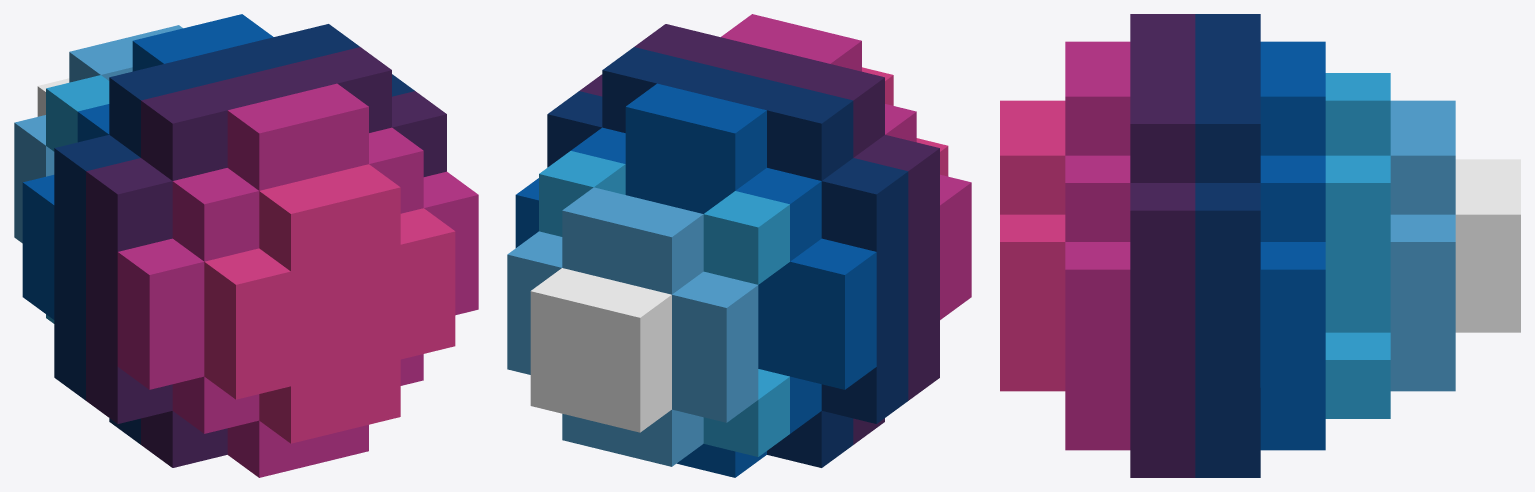
Rendered from Naoko_MagicBall.obj.
The picture shows the model from 3 angles, left to right: view 1: azimuth 30°, elevation 25°; view 2: azimuth 150°, elevation 25°; view 3: azimuth 270°, elevation 25°; orthographic projection. The views are drawn at different scales.
Size of the model in its own units: 6 by 6 by 8.
Materials: 1 (1 with a texture image).
